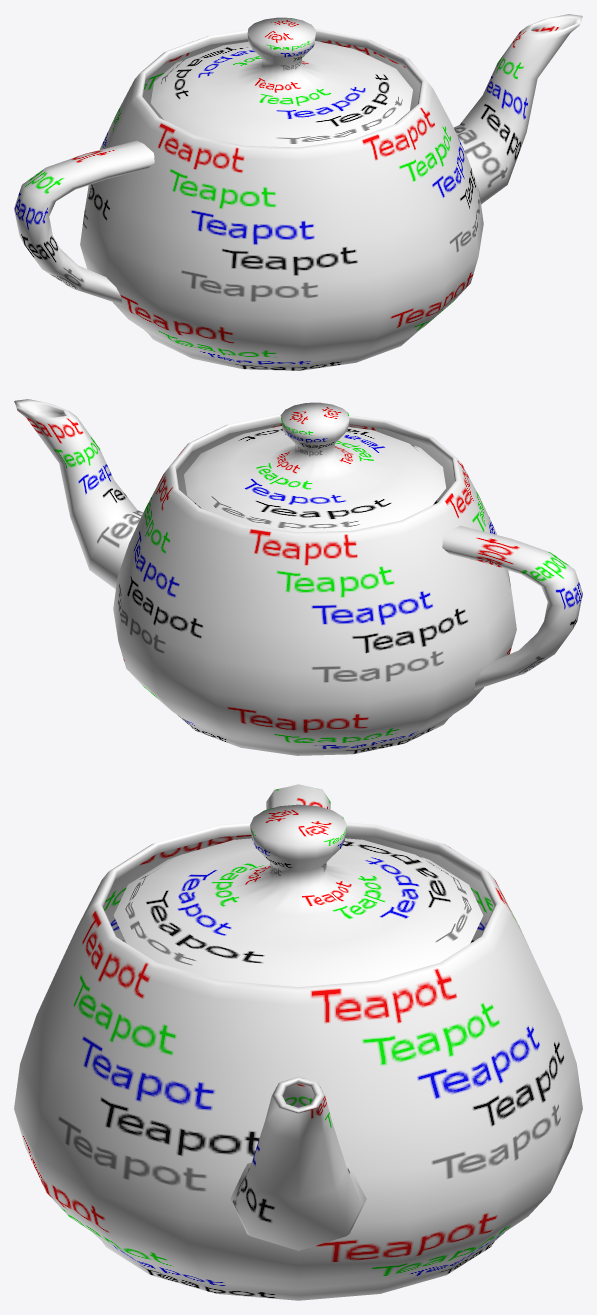
File: teapotlights.FBX
The picture shows the model from 3 angles, top to bottom: view 1: azimuth 30°, elevation 25°; view 2: azimuth 150°, elevation 25°; view 3: azimuth 270°, elevation 25°; orthographic projection. The views are drawn at different scales.
Parts seen in each view (by area): view 1: Teapot01; view 2: Teapot01; view 3: Teapot01.
Part boxes in pixels (<box>): Teapot01: <box>14,14,582,370</box>; Teapot01: <box>14,399,582,755</box>; Teapot01: <box>14,784,582,1300</box>.
Size of the model in its own units: 65.69 by 40.88 by 32.19.
1 material, 1 textured.
